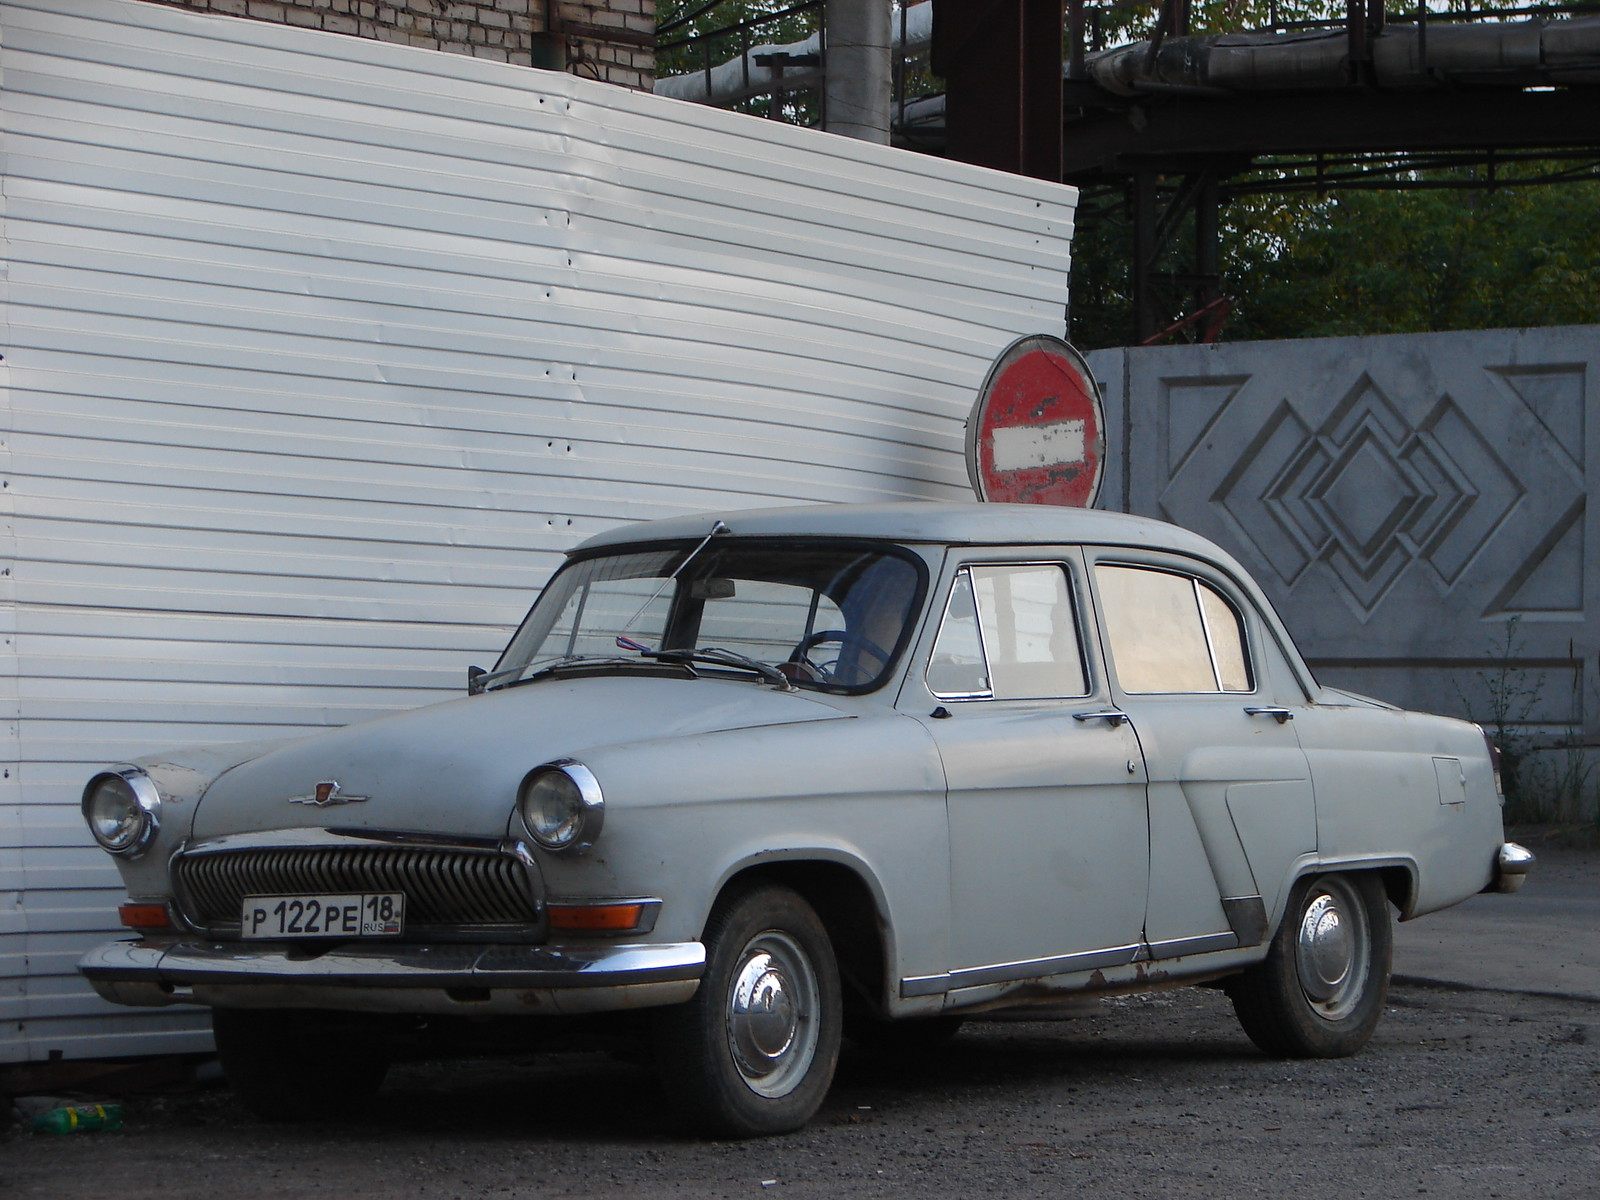car_front: (83, 725, 611, 1012)
plate: (240, 890, 402, 939)
